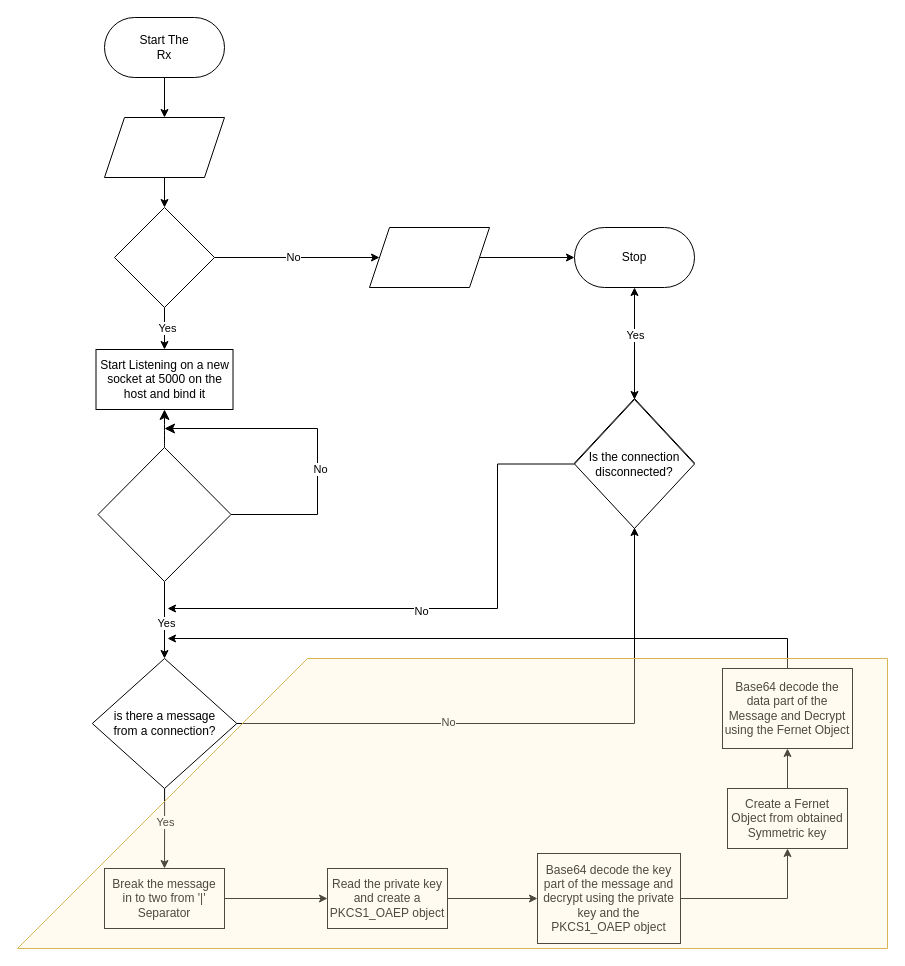
Some shapes in this 905 by 966 pixel diagram are drawn without their labels. The centre of each missing label's shape, as x and y in pixels:
Check if the file exists: the point at 164,257
Decrypt Process: the point at 452,803
Is there a connection listening to this port: the point at 164,514
Show error message for file not found: the point at 429,257
Take Private Key path: the point at 164,147
